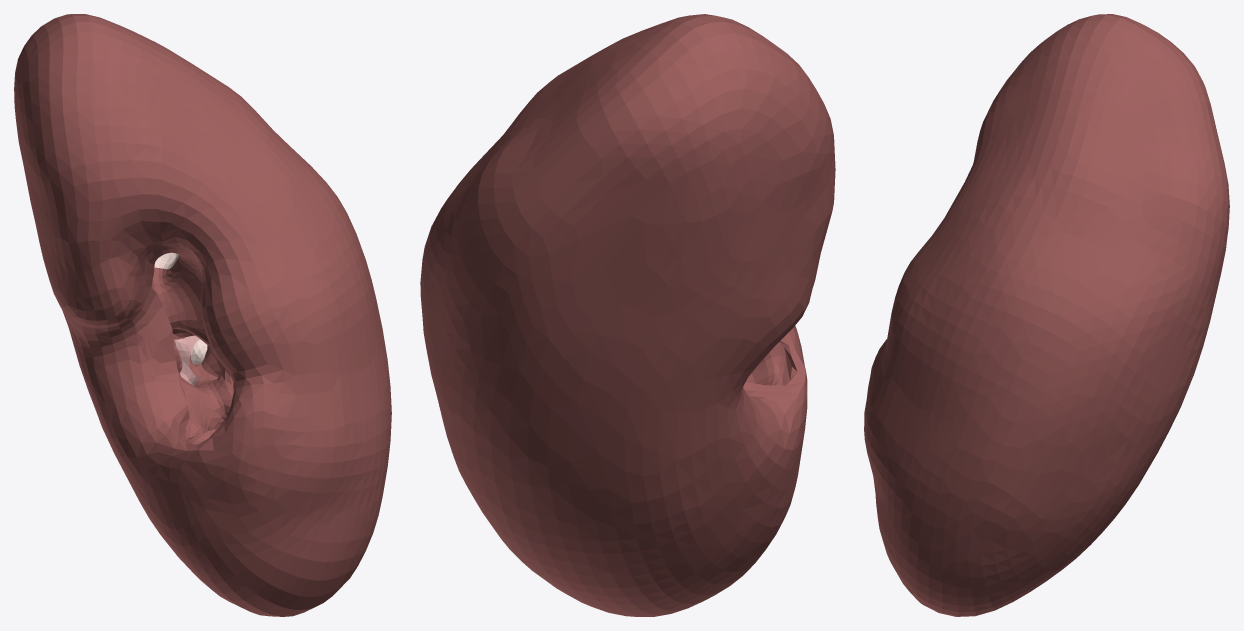
The model's file is VH_F_Kidney_L_0.6.glb.
The picture shows the model from 3 angles, left to right: view 1: azimuth 30°, elevation 25°; view 2: azimuth 150°, elevation 25°; view 3: azimuth 270°, elevation 25°; orthographic projection. The views are drawn at different scales.
Parts seen in each view (by area): view 1: VH_F_kidney_capsule_L, VH_F_hilum_of_kidney_L, VH_F_renal_pyramid_L_g, VH_F_renal_column_L; view 2: VH_F_kidney_capsule_L, VH_F_hilum_of_kidney_L; view 3: VH_F_kidney_capsule_L.
Boxes of the visible parts, x1,y1,x2,y2 form: VH_F_kidney_capsule_L: (14, 14, 391, 616); VH_F_hilum_of_kidney_L: (144, 245, 233, 444); VH_F_renal_pyramid_L_g: (174, 335, 200, 385); VH_F_renal_column_L: (154, 252, 207, 365); VH_F_kidney_capsule_L: (420, 14, 835, 616); VH_F_hilum_of_kidney_L: (746, 342, 789, 385); VH_F_kidney_capsule_L: (864, 14, 1229, 616).
Bounding box in the file's own units: 0.0731 × 0.1249 × 0.0776.
